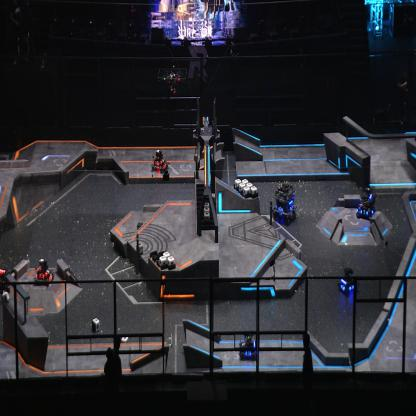car: (270, 181, 297, 227), (355, 186, 376, 220), (337, 265, 358, 297), (33, 258, 55, 288), (239, 331, 258, 362), (151, 149, 170, 173)
